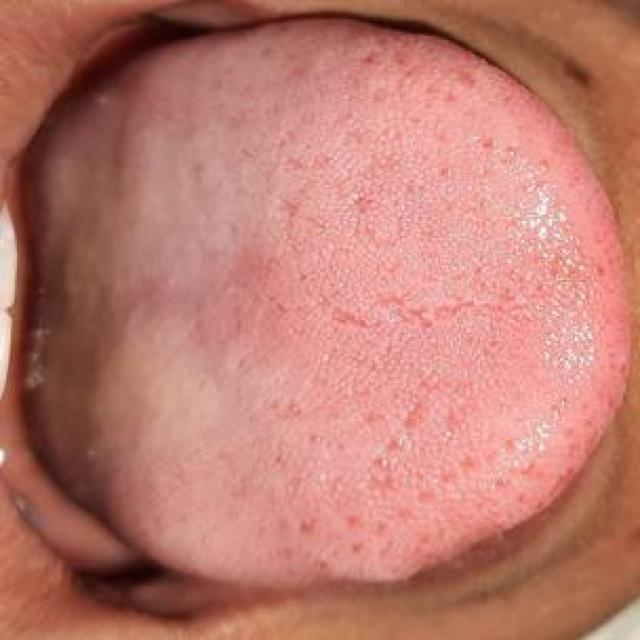processing_area: (36, 19, 630, 591)
